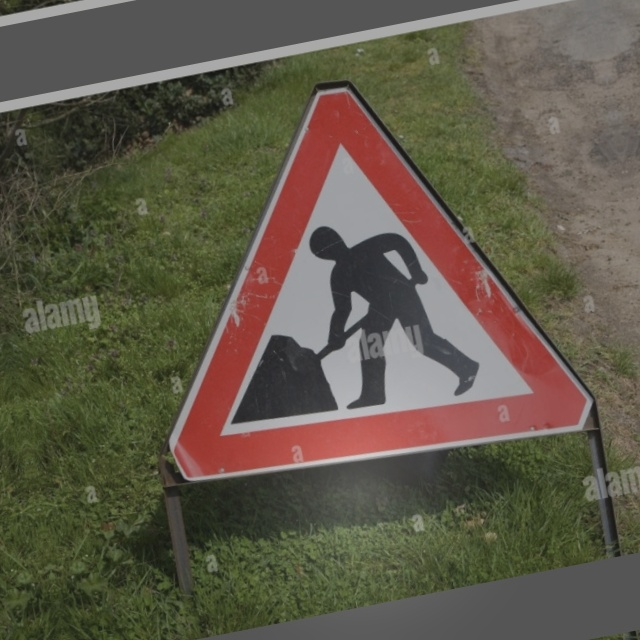Men_at_Work: (98, 43, 611, 509)
